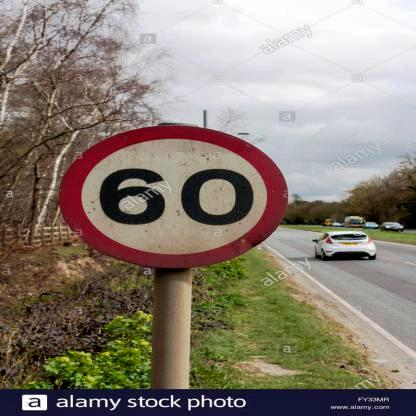Speed Limit -60-: (54, 120, 293, 268)
